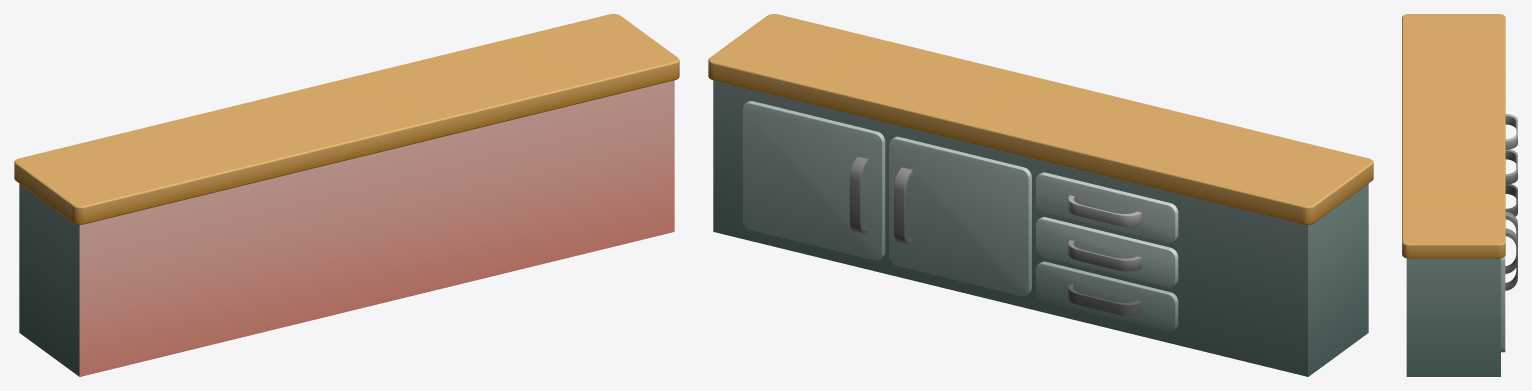
Rendered from fronttable.fbx.
The picture shows the model from 3 angles, left to right: view 1: azimuth 30°, elevation 25°; view 2: azimuth 150°, elevation 25°; view 3: azimuth 270°, elevation 25°; orthographic projection. The views are drawn at different scales.
Visible parts, largest first — view 1: Front Table; view 2: Front Table, Door RIght.002, Door RIght.001, Front Table.004, Front Table.003, Front Table.005; view 3: Front Table, Door RIght.002, Front Table.003, Front Table.004, Door RIght.001, Front Table.005.
Boxes of the visible parts, x1=… form: Front Table: x1=14, y1=14, x2=679, y2=376; Front Table: x1=708, y1=14, x2=1373, y2=376; Door RIght.002: x1=742, y1=101, x2=885, y2=260; Door RIght.001: x1=889, y1=136, x2=1031, y2=296; Front Table.004: x1=1035, y1=217, x2=1178, y2=287; Front Table.003: x1=1035, y1=172, x2=1178, y2=242; Front Table.005: x1=1035, y1=261, x2=1178, y2=332; Front Table: x1=1402, y1=14, x2=1505, y2=376; Door RIght.002: x1=1501, y1=228, x2=1517, y2=352; Front Table.003: x1=1505, y1=114, x2=1517, y2=149; Front Table.004: x1=1505, y1=149, x2=1517, y2=184; Door RIght.001: x1=1505, y1=211, x2=1517, y2=273; Front Table.005: x1=1505, y1=184, x2=1517, y2=216.
Bounding box in the file's own units: 391 × 106 × 82.92.
